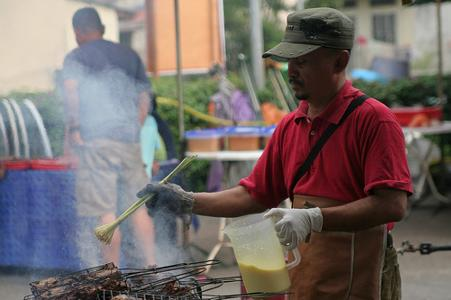person: (140, 10, 415, 300)
